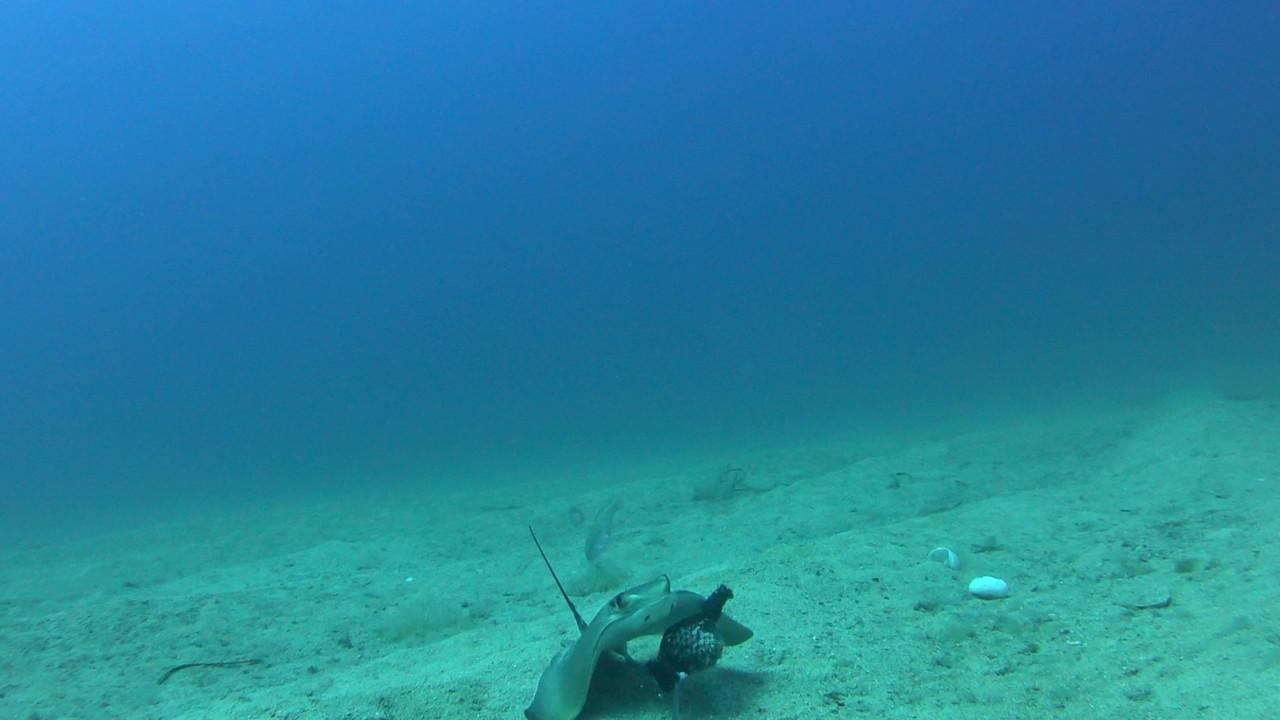myliobatis: (518, 510, 773, 719)
